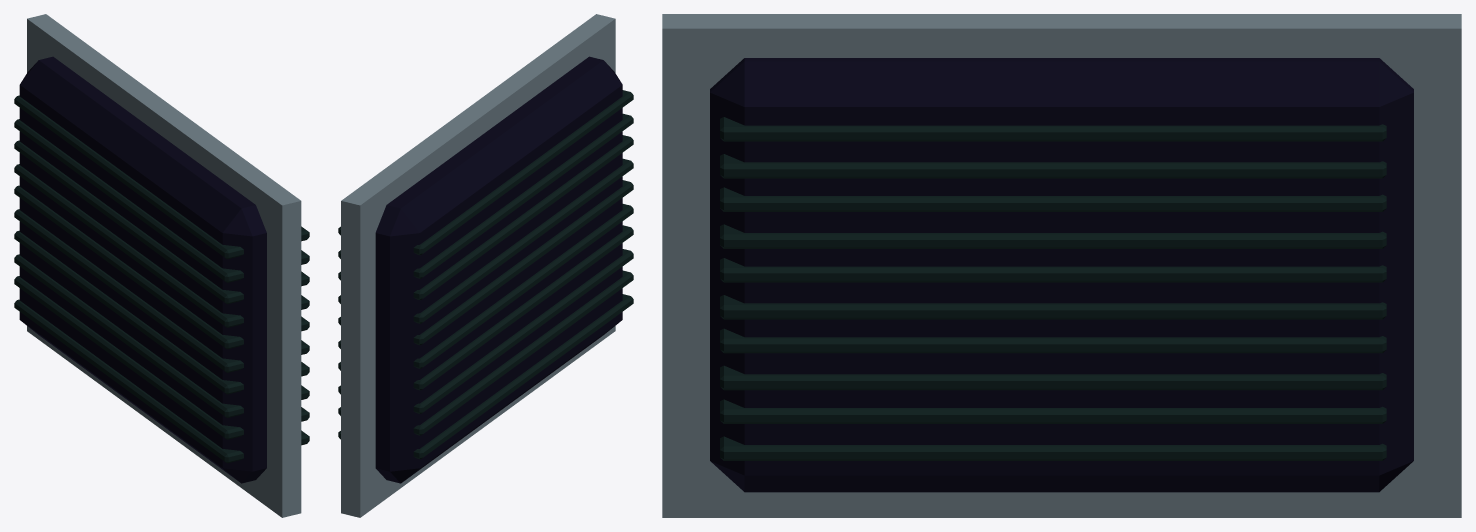
The model's file is plaka 9 emboss.fbx.
The picture shows the model from 3 angles, left to right: view 1: azimuth 30°, elevation 25°; view 2: azimuth 150°, elevation 25°; view 3: azimuth 270°, elevation 25°; orthographic projection. The views are drawn at different scales.
Parts seen in each view (by area): view 1: polySurface1989; view 2: polySurface1989; view 3: polySurface1989.
Boxes of the visible parts, <box> form: polySurface1989: <box>14,14,309,517</box>; polySurface1989: <box>338,14,633,517</box>; polySurface1989: <box>662,14,1461,517</box>.
Size of the model in its own units: 39.43 by 139 by 206.
